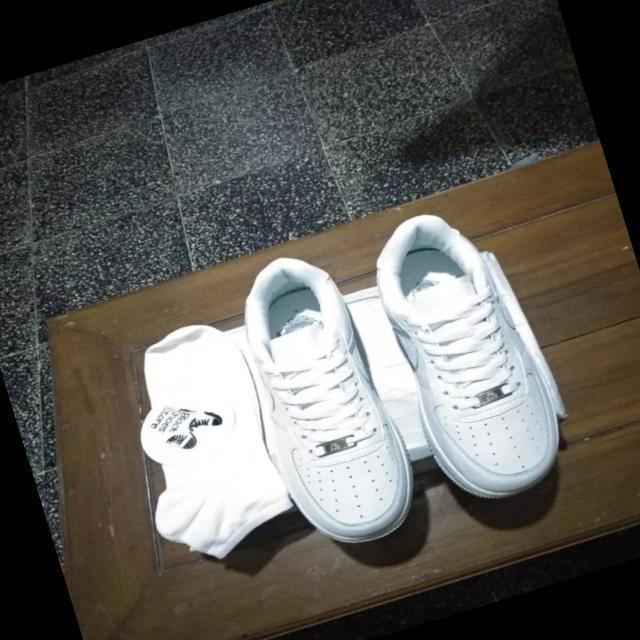nike fake air force: (357, 192, 580, 518), (218, 238, 430, 564)
